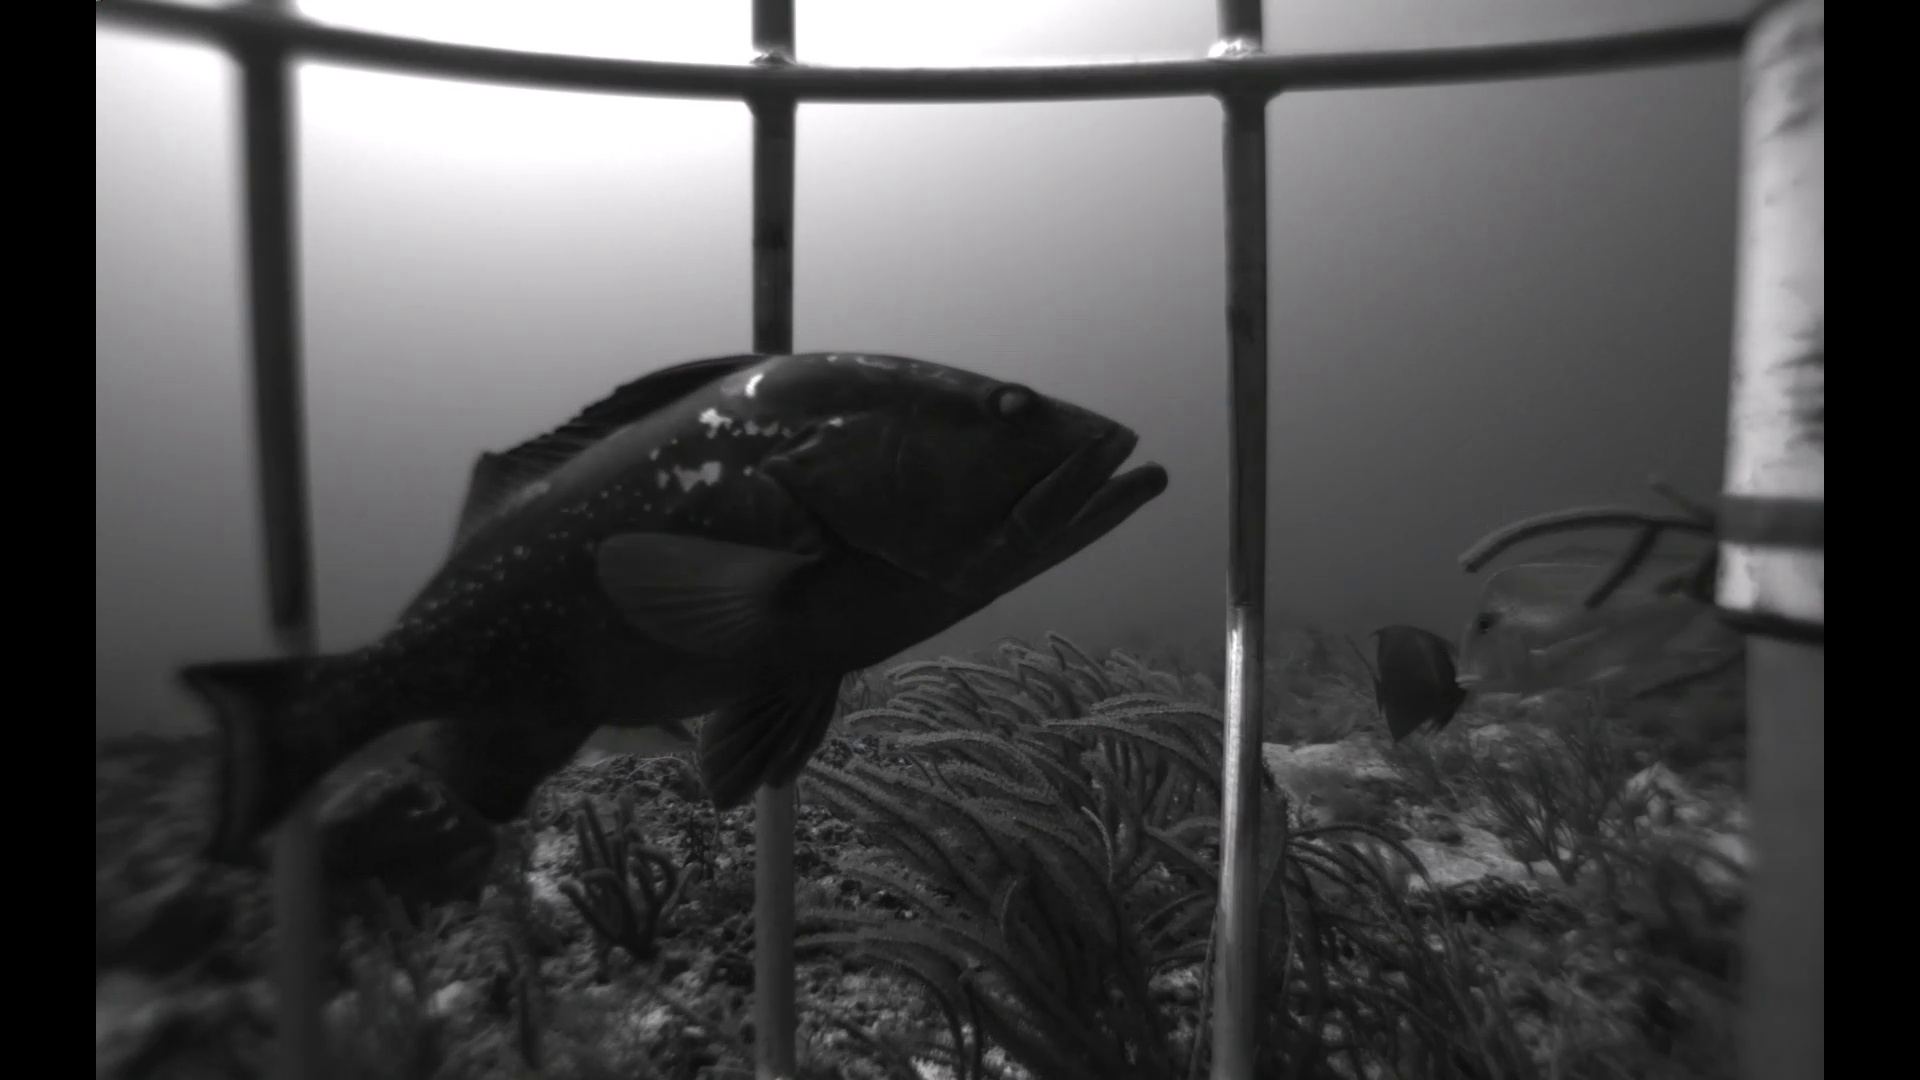CALAMUSNODOSUS-170210608: (1445, 531, 1727, 711)
EPINEPHELUSMORIO-170021211: (141, 297, 1179, 913), (319, 731, 531, 945)
LUTJANUSGRISEUS-170151109: (579, 703, 703, 767)
POMACANTHUSARCUATUS-170290201: (1356, 616, 1476, 754)
